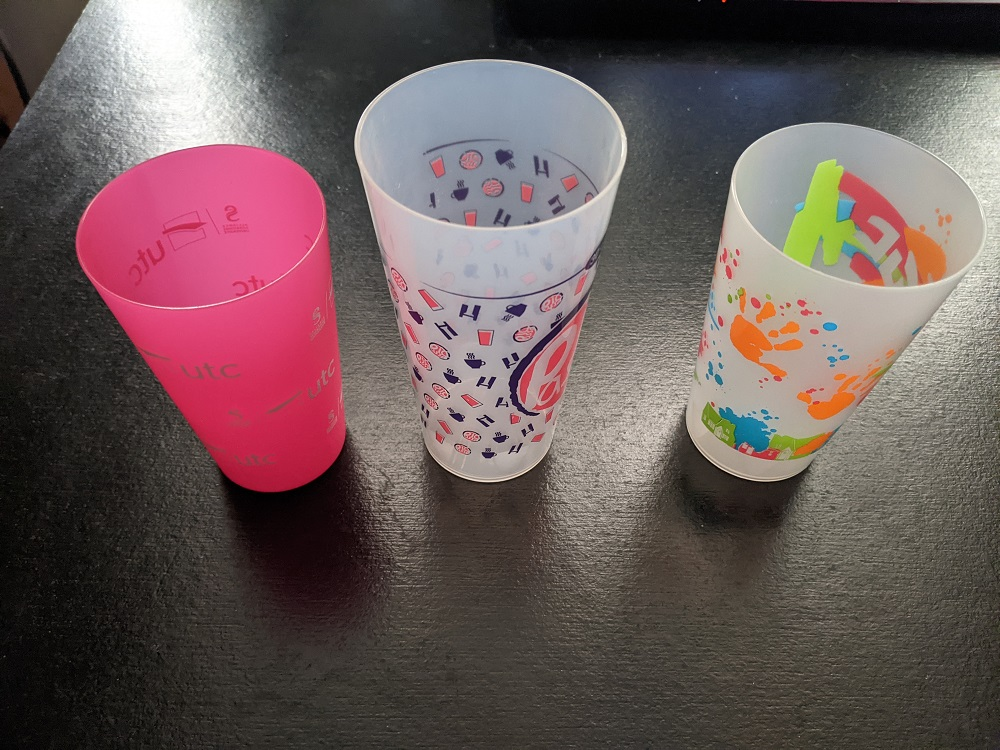ecocup: (354, 59, 627, 483), (686, 122, 988, 482), (76, 144, 346, 493)
